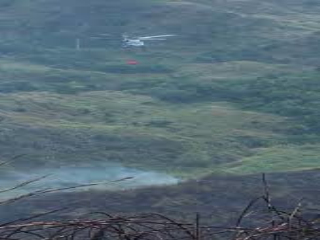smoke: (6, 149, 180, 195)
